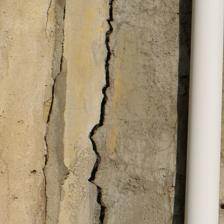Crack: (0, 0, 126, 152), (0, 8, 91, 119)
